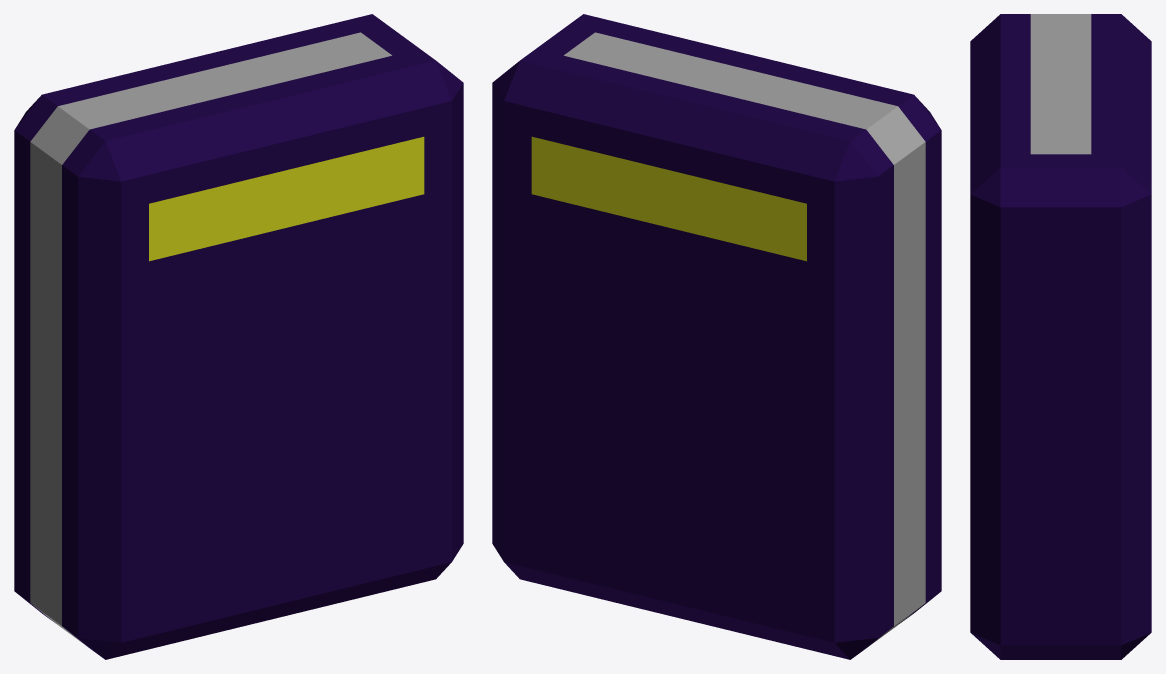
The model's file is Book4.fbx.
The picture shows the model from 3 angles, left to right: view 1: azimuth 30°, elevation 25°; view 2: azimuth 150°, elevation 25°; view 3: azimuth 270°, elevation 25°; orthographic projection. The views are drawn at different scales.
Parts seen in each view (by area): view 1: Book4; view 2: Book4; view 3: Book4.
Part boxes in pixels (<box>): Book4: <box>14,14,463,659</box>; Book4: <box>492,14,941,659</box>; Book4: <box>970,14,1151,659</box>.
Size of the model in its own units: 70 by 90 by 30.
